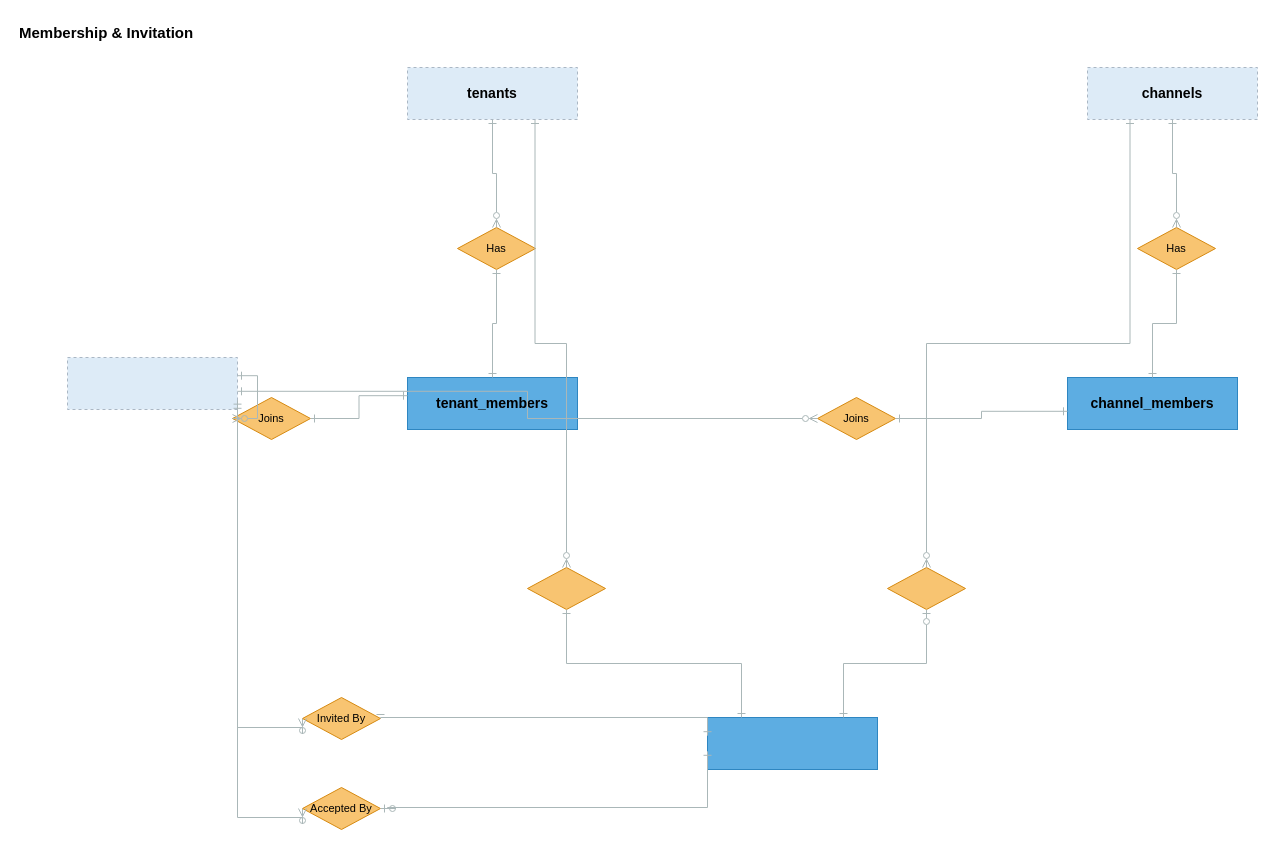
Image size: 1275x847. Some labels were removed from this diagram. The shapes that lost their labels are listed below. From the top down, each one's box as (x1, y1, x2, y2) in pixels, then its label:
(66, 356, 238, 410): users
(526, 566, 606, 610): Sends
(886, 566, 966, 610): Targets
(706, 716, 878, 770): invitations
